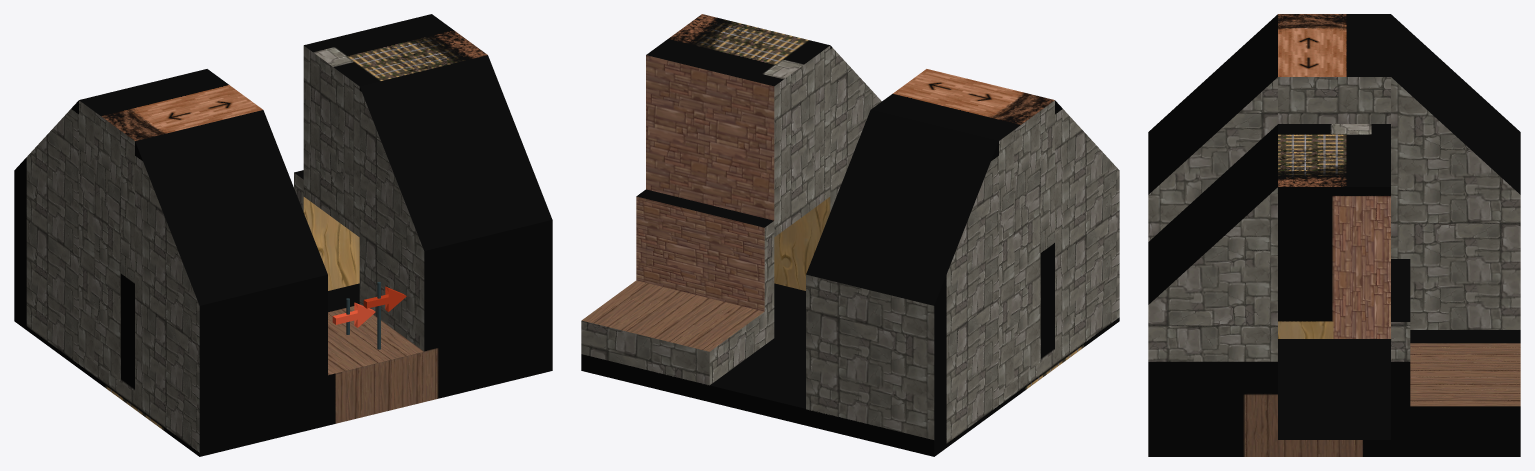
The model's file is turnL_ground.fbx.
3 views of the same model, side by side, from view 1: azimuth 30°, elevation 25°; view 2: azimuth 150°, elevation 25°; view 3: azimuth 270°, elevation 25° (orthographic).
Visible parts, largest first — view 1: ground.Turn.L.001, Cube.005, Cube.006; view 2: ground.Turn.L.001; view 3: ground.Turn.L.001.
Part boxes in pixels (x1,y1,x2,y2): ground.Turn.L.001: (14, 14, 552, 456); Cube.005: (332, 302, 375, 327); Cube.006: (363, 286, 406, 311); ground.Turn.L.001: (581, 14, 1119, 456); ground.Turn.L.001: (1148, 14, 1520, 456).
Size of the model in its own units: 22 by 20 by 16.
